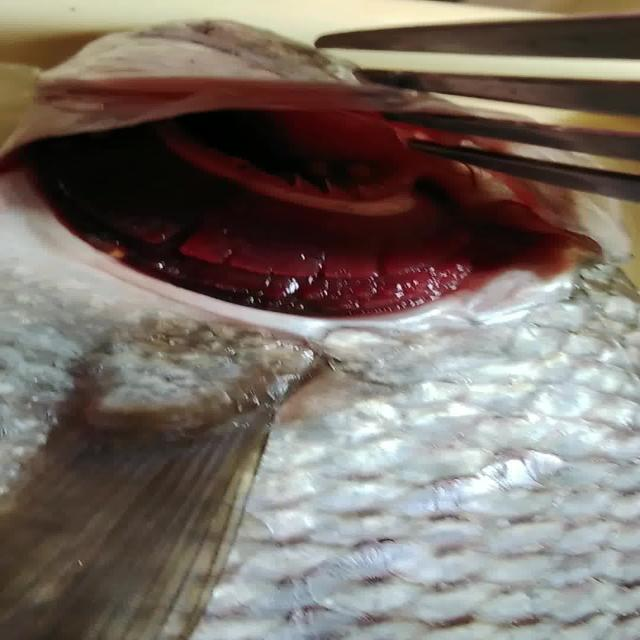Fresh: (10, 99, 567, 325)
